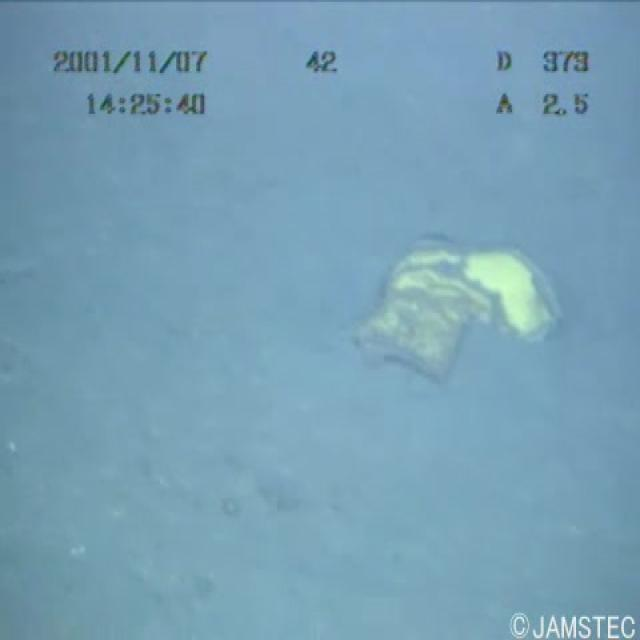plastic: (345, 211, 580, 393)
